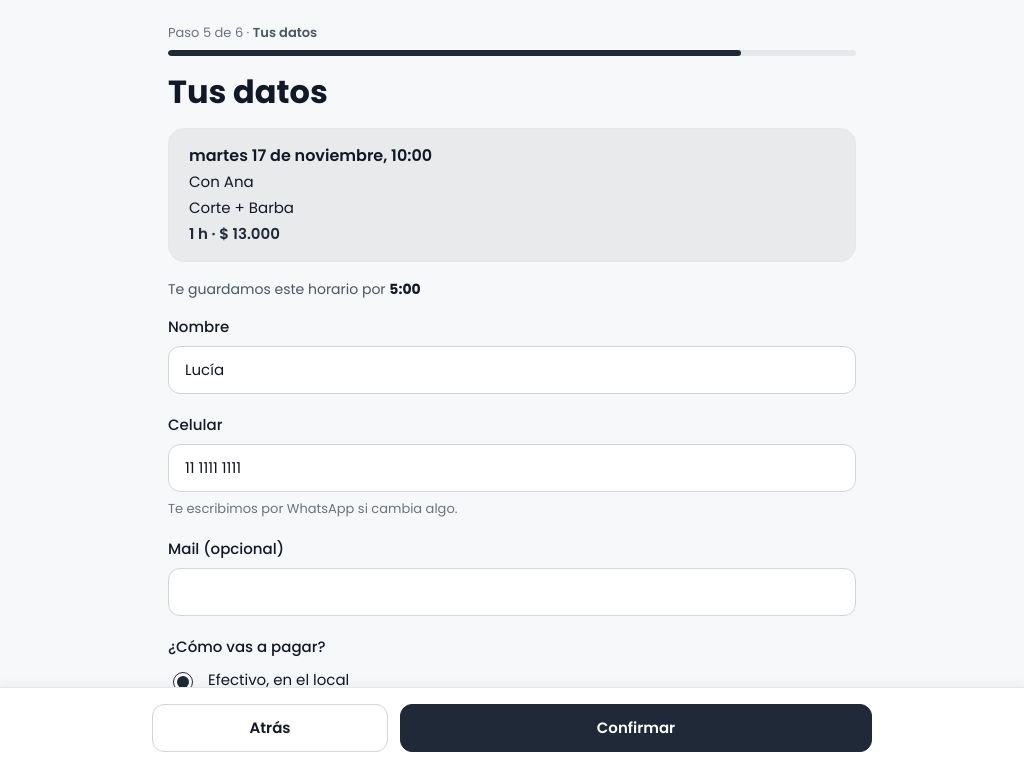
Paso 5: tus datos › HU-10 CA4: los errores que devuelve la API también se muestran junto al campo
What coordinates should you click on to do the following:
click the button "Confirmar"
I would click on:
 (636, 728)
Its box is [400, 704, 872, 752].
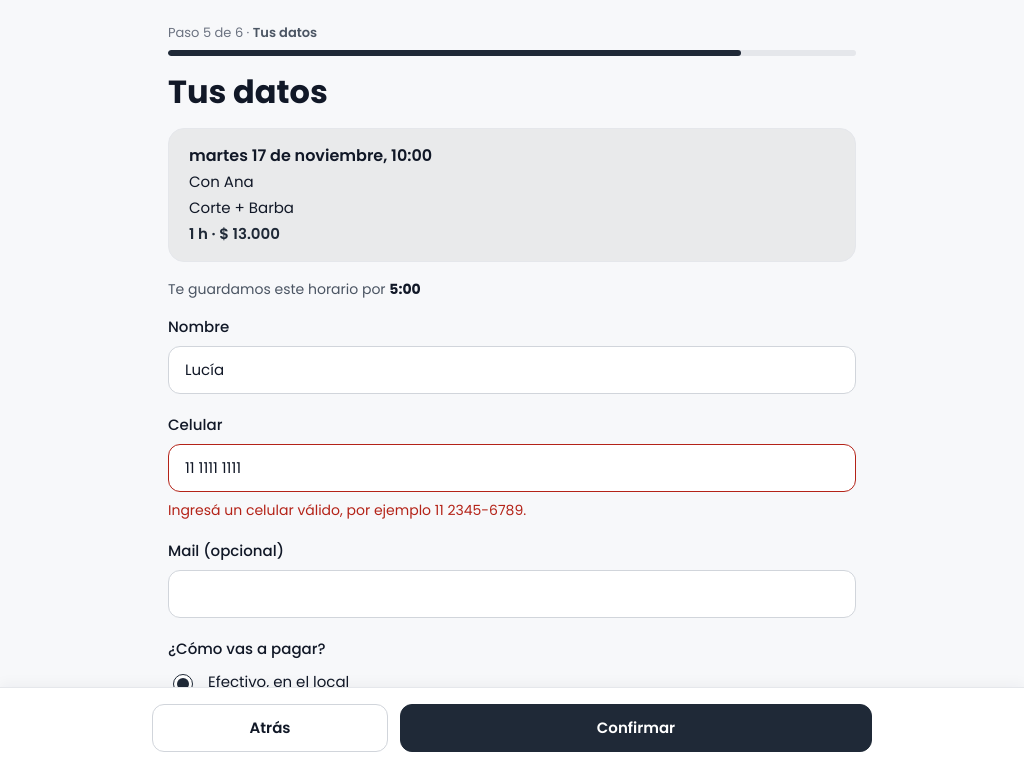
Result: the text "Ingresá un celular válido, por ejemplo 11 2345-6789." is shown at [168, 500, 526, 520]
